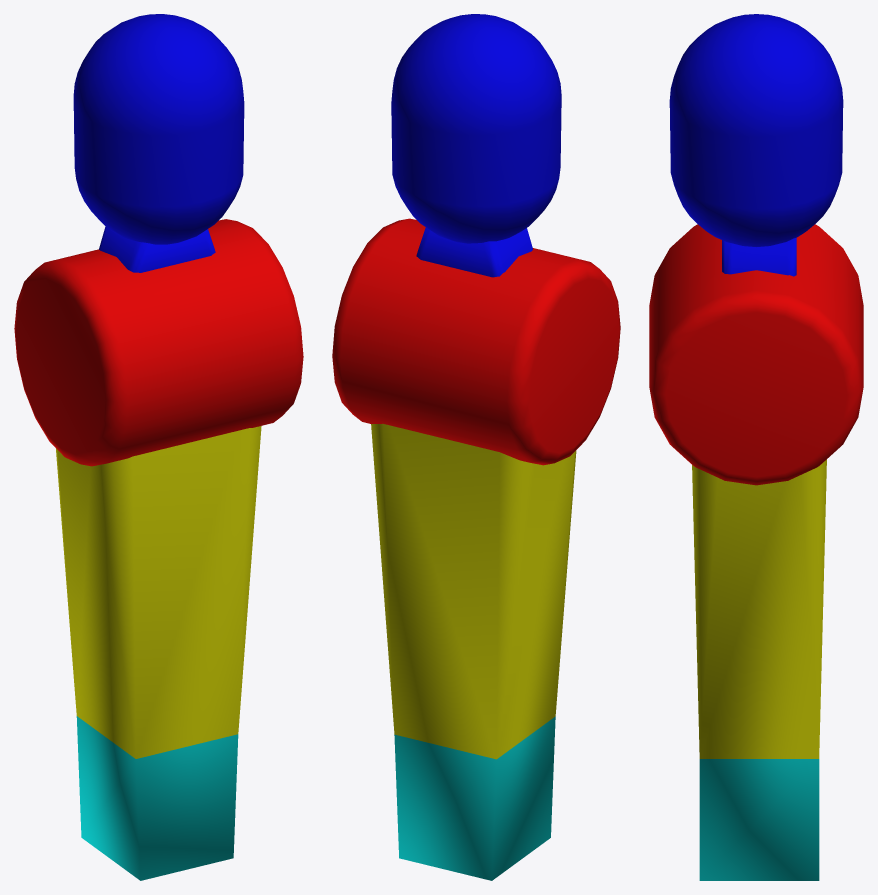
The model's file is SM_Pion.fbx.
The picture shows the model from 3 angles, left to right: view 1: azimuth 30°, elevation 25°; view 2: azimuth 150°, elevation 25°; view 3: azimuth 270°, elevation 25°; orthographic projection.
Parts seen in each view (by area): view 1: polySurface6; view 2: polySurface6; view 3: polySurface6.
Boxes of the visible parts, x1=… form: polySurface6: x1=14, y1=14, x2=303, y2=880; polySurface6: x1=332, y1=14, x2=620, y2=880; polySurface6: x1=649, y1=14, x2=863, y2=880.
Bounding box in the file's own units: 1.93 × 7.75 × 1.8.
